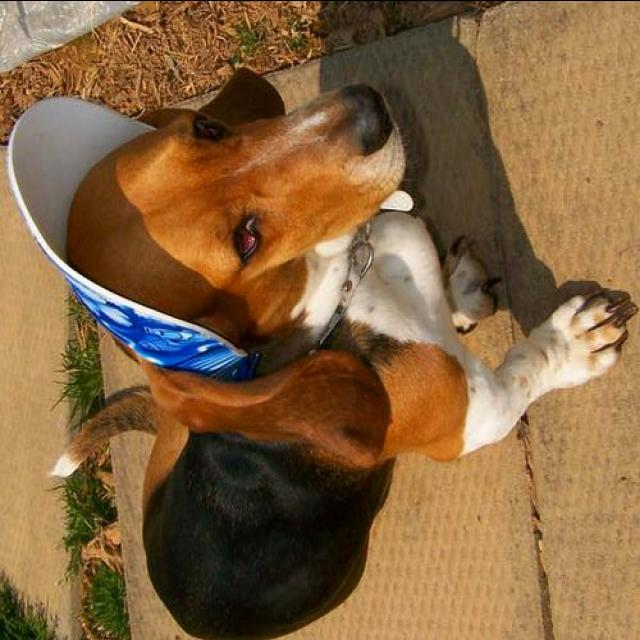basset: (46, 80, 634, 637)
